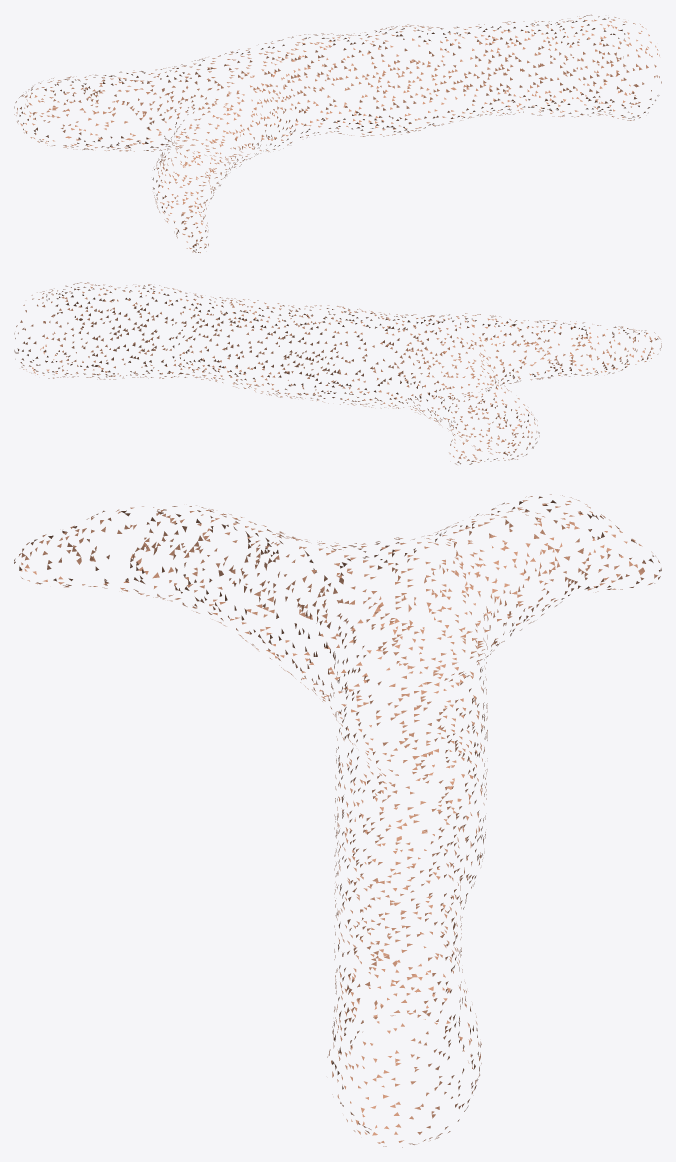
The model's file is morph_004.glb.
3 renders of one model, top to bottom at view 1: azimuth 30°, elevation 25°; view 2: azimuth 150°, elevation 25°; view 3: azimuth 270°, elevation 25°, orthographic. The views are drawn at different scales.
Bounding box in the file's own units: 131 × 32.68 × 75.66.
